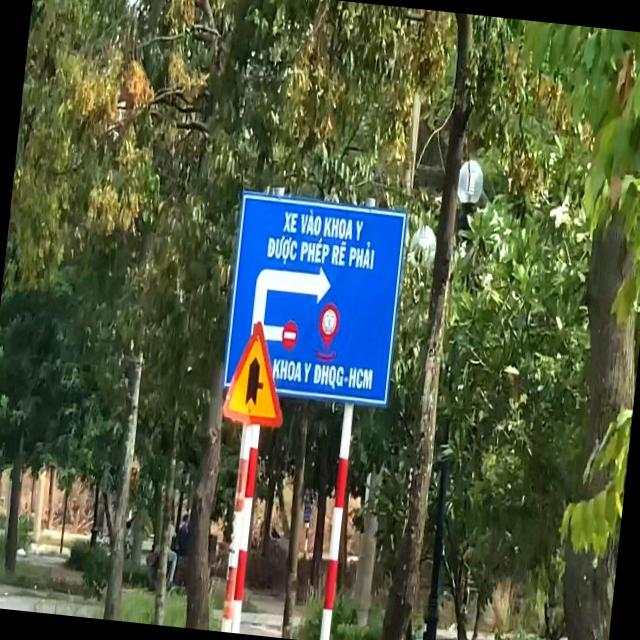W-207b: (214, 317, 292, 432)
